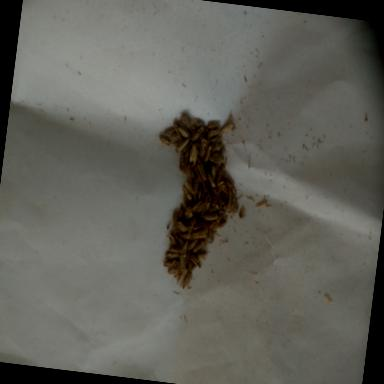pbw: (206, 212, 222, 230), (188, 252, 206, 268), (196, 136, 208, 158), (188, 142, 198, 168), (219, 173, 235, 189), (175, 136, 189, 154), (204, 170, 218, 188), (170, 120, 183, 139), (178, 252, 189, 274), (176, 124, 192, 139), (190, 124, 203, 142), (191, 236, 204, 254), (195, 163, 208, 181), (212, 180, 226, 196), (180, 186, 194, 202), (162, 250, 180, 262), (186, 213, 198, 231), (166, 232, 180, 247), (182, 180, 196, 195), (190, 199, 202, 216), (208, 151, 225, 163), (182, 272, 192, 292), (178, 113, 191, 128), (202, 210, 218, 222), (162, 256, 178, 268), (218, 122, 234, 134), (186, 236, 198, 252), (175, 219, 189, 232), (192, 218, 206, 231), (206, 127, 219, 141), (210, 134, 220, 152), (200, 200, 210, 218), (198, 184, 208, 202), (170, 210, 179, 229), (190, 230, 207, 240), (176, 267, 186, 284), (182, 205, 192, 222), (172, 232, 184, 246), (157, 134, 171, 146), (192, 176, 200, 196), (213, 218, 226, 230), (162, 125, 175, 137), (206, 120, 219, 132), (196, 200, 207, 214), (230, 196, 239, 213), (190, 118, 205, 128), (211, 191, 221, 206), (214, 166, 222, 184), (177, 202, 185, 220), (167, 264, 179, 276), (184, 140, 192, 158), (209, 164, 217, 182), (182, 160, 192, 174), (226, 190, 233, 209), (210, 142, 221, 154), (206, 202, 218, 213), (167, 246, 183, 254), (178, 232, 194, 240), (202, 220, 210, 235), (207, 226, 214, 243), (178, 152, 184, 171), (180, 238, 188, 252), (188, 168, 196, 182), (209, 133, 219, 144), (204, 144, 210, 162), (180, 196, 188, 208), (216, 198, 222, 212), (196, 187, 201, 202)
